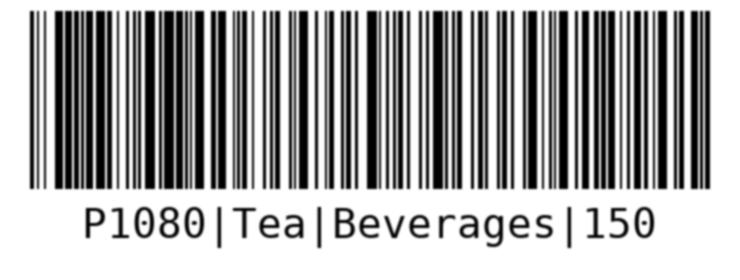milk: (23, 4, 721, 252)
